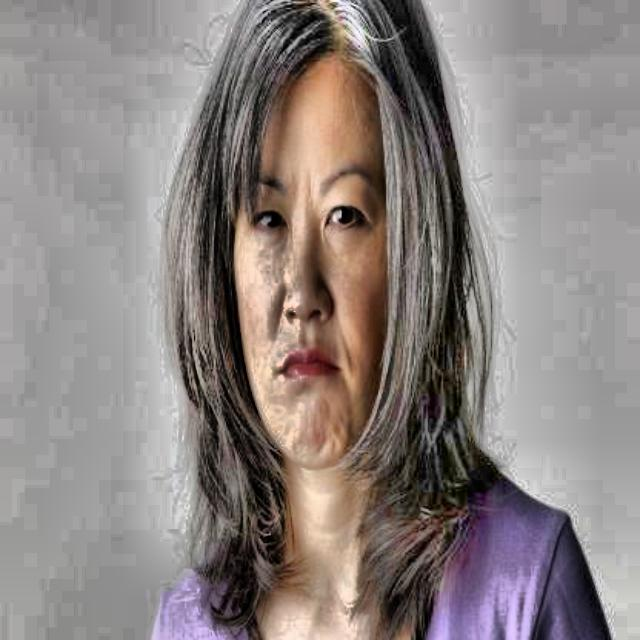angry: (179, 1, 457, 554)
